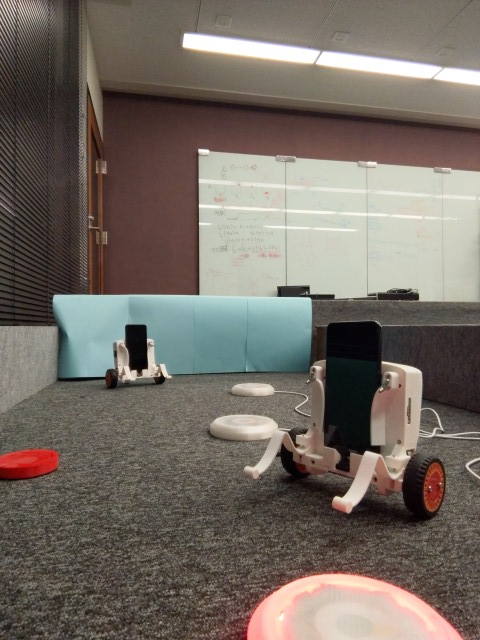f: (244, 320, 449, 518), (102, 319, 170, 388)
o: (209, 408, 277, 441), (227, 379, 274, 398)
r: (248, 570, 468, 640)
